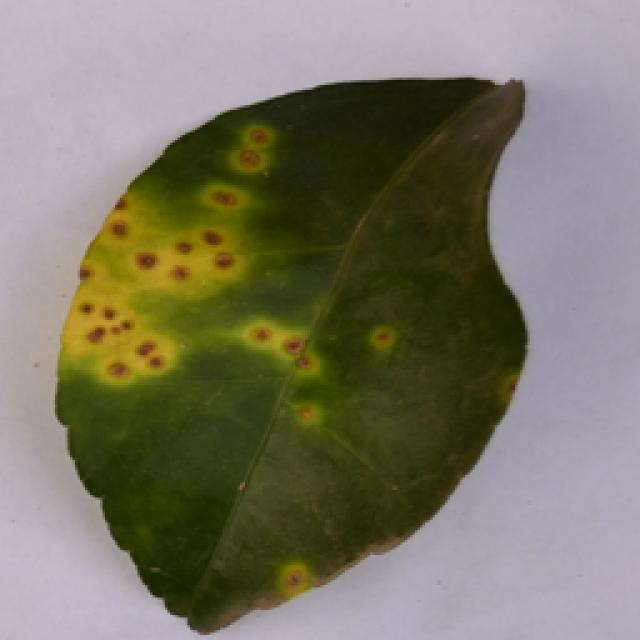canker: (50, 65, 533, 633)
